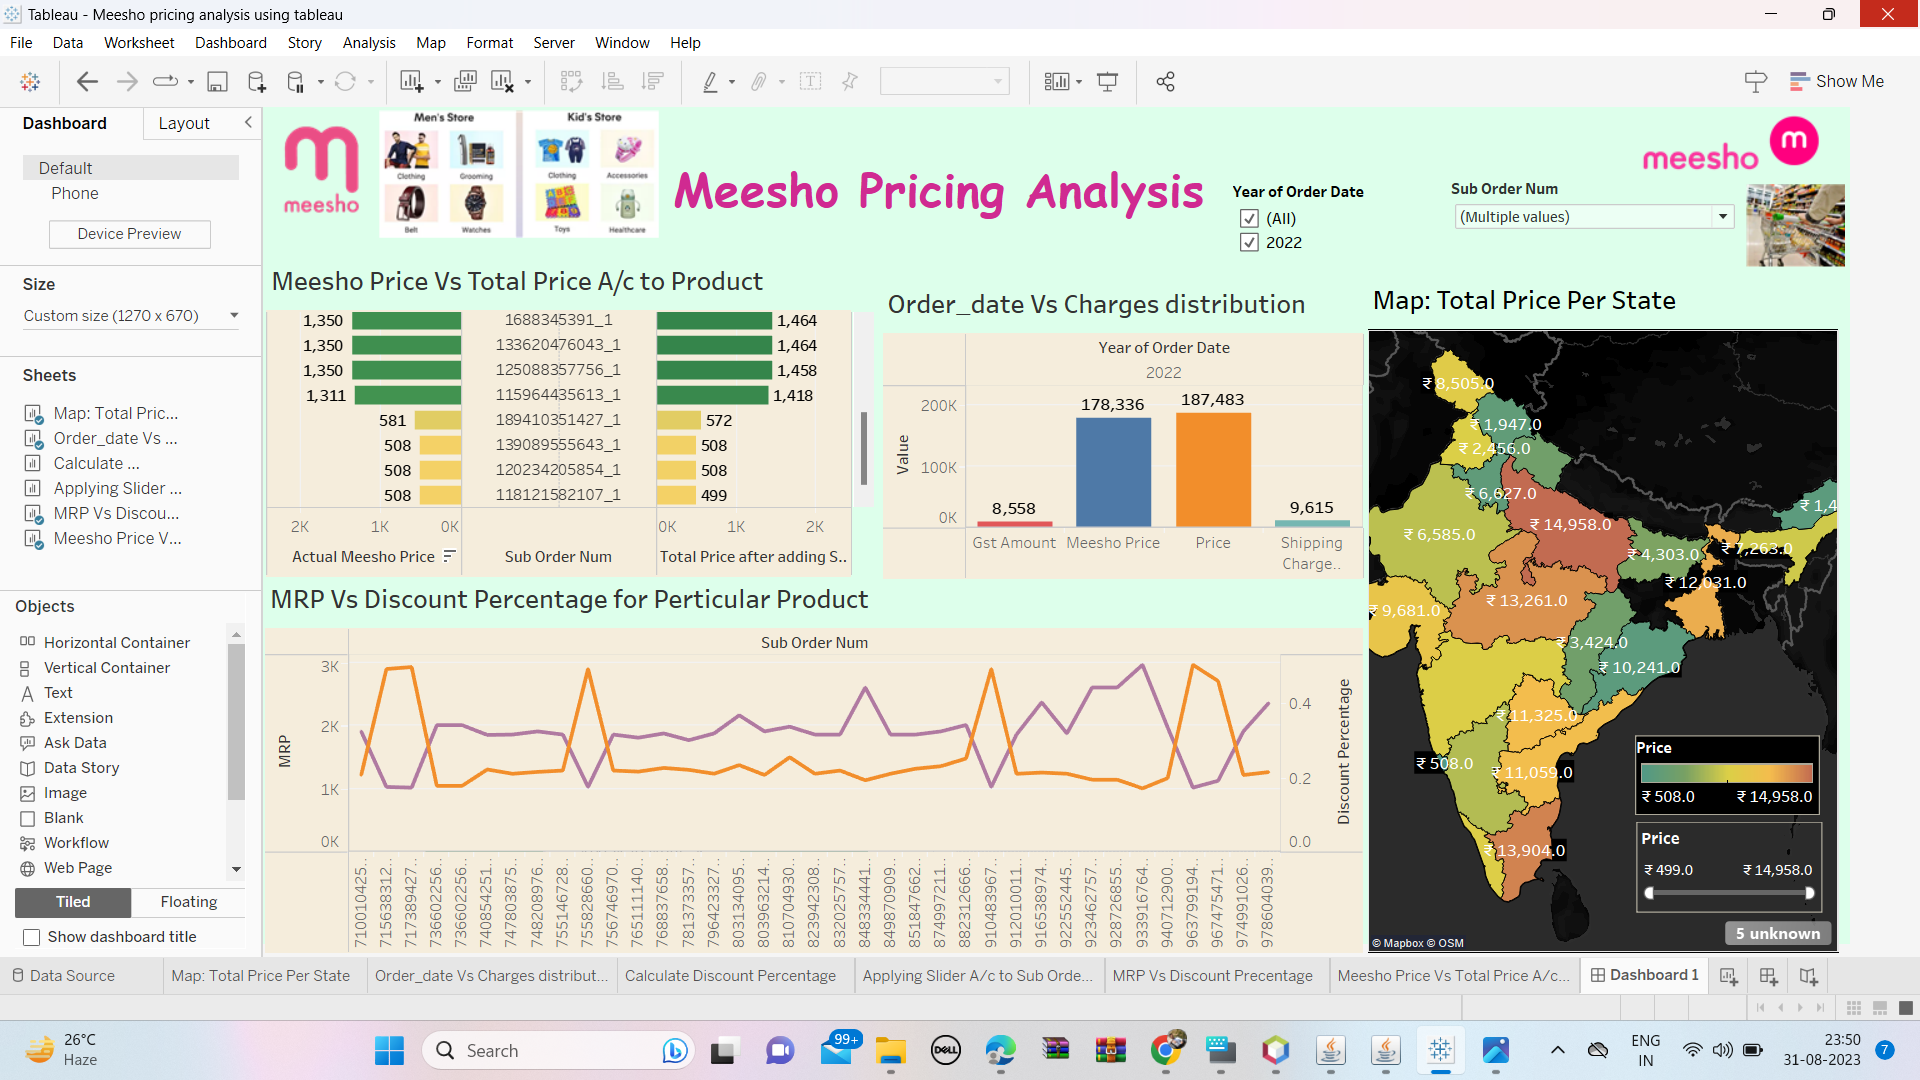

Layout of this report page (visuals, bound fields, positions):
{"tool":"tableau","page":{"name":"Dashboard 1","canvas":[1270,670],"ordinal":0},"visuals":[{"type":"image","param":"C:/Users/vedang/Downloads/Screenshot 2023-05-01 011420.png","box":[93,3,224,162]},{"type":"image","param":"C:/Users/vedang/Downloads/19436680.png","box":[3,6,96,88]},{"type":"image","param":"C:/Users/vedang/Downloads/unnamed.png","box":[1185,7,80,51]},{"type":"text","box":[326,41,445,49]},{"type":"filter","title":"MRP Vs Discount Precentage","param":"[federated.1mf9a8o1fo941f11kmg8u0kvy7bt].[none:sub_order_num:nk]","box":[951,57,230,65]},{"type":"filter","title":"Order_date Vs Charges distribution","param":"[federated.1mf9a8o1fo941f11kmg8u0kvy7bt].[tyr:order_date:ok]","box":[776,59,160,62]},{"type":"image","param":"C:/Users/vedang/Downloads/Screenshot 2023-05-01 011912.png","box":[1187,62,79,88]},{"type":"worksheet","title":"Meesho Price Vs Total Price A/c to Product","mark":"Automatic","rows":["sub_order_num"],"cols":["meesho_price","Calculation_1305762437990506509","price"],"box":[3,121,488,255]},{"type":"worksheet","title":"Order_date Vs Charges distribution","mark":"Bar","cols":["order_date"],"box":[496,139,385,239]},{"type":"legend","title":"Map: Total Price Per State","param":"[federated.1mf9a8o1fo941f11kmg8u0kvy7bt].[sum:price:qk]","box":[1098,503,148,64]},{"type":"filter","title":"Map: Total Price Per State","param":"[federated.1mf9a8o1fo941f11kmg8u0kvy7bt].[sum:price:qk]","box":[1099,572,149,73]}]}

Visuals, with their boxes on the page's 1270x670 design canvas (x1, y1, x2, y2). These are canvas units, not pixel positions in the 1920x1080 screenshot, which may show the page scaled, cropped or inside an application window:
image: box(93, 3, 317, 165)
image: box(3, 6, 99, 94)
image: box(1185, 7, 1265, 58)
text: box(326, 41, 771, 90)
"MRP Vs Discount Precentage" filter: box(951, 57, 1181, 122)
"Order_date Vs Charges distribution" filter: box(776, 59, 936, 121)
image: box(1187, 62, 1266, 150)
"Meesho Price Vs Total Price A/c to Product" worksheet: box(3, 121, 491, 376)
"Order_date Vs Charges distribution" worksheet (Bar marks): box(496, 139, 881, 378)
"Map: Total Price Per State" legend: box(1098, 503, 1246, 567)
"Map: Total Price Per State" filter: box(1099, 572, 1248, 645)
